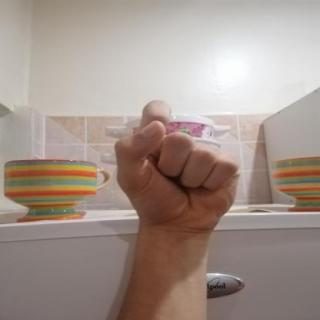FAA: (102, 92, 254, 243)
